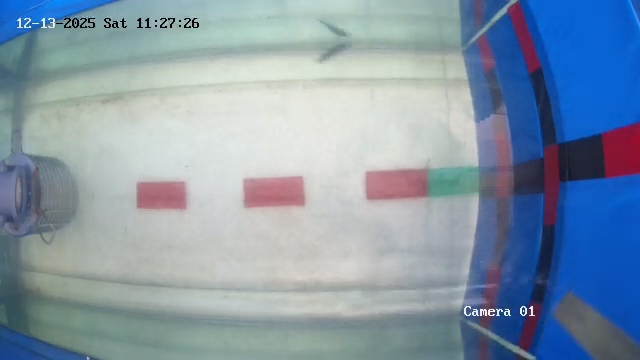fish: (299, 32, 335, 89)
